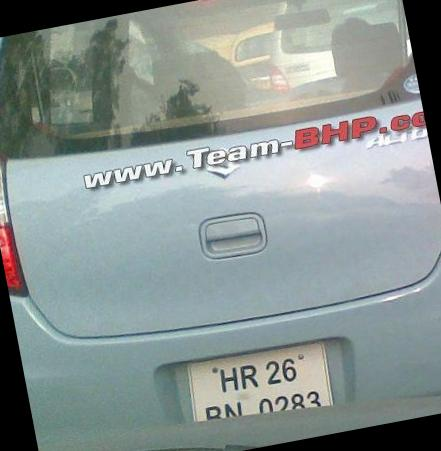plate: (176, 336, 338, 435)
